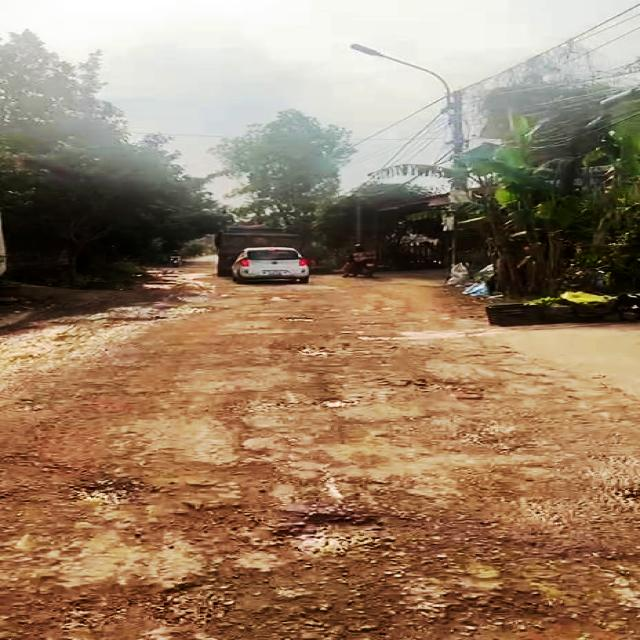pothole: (265, 506, 386, 556)
